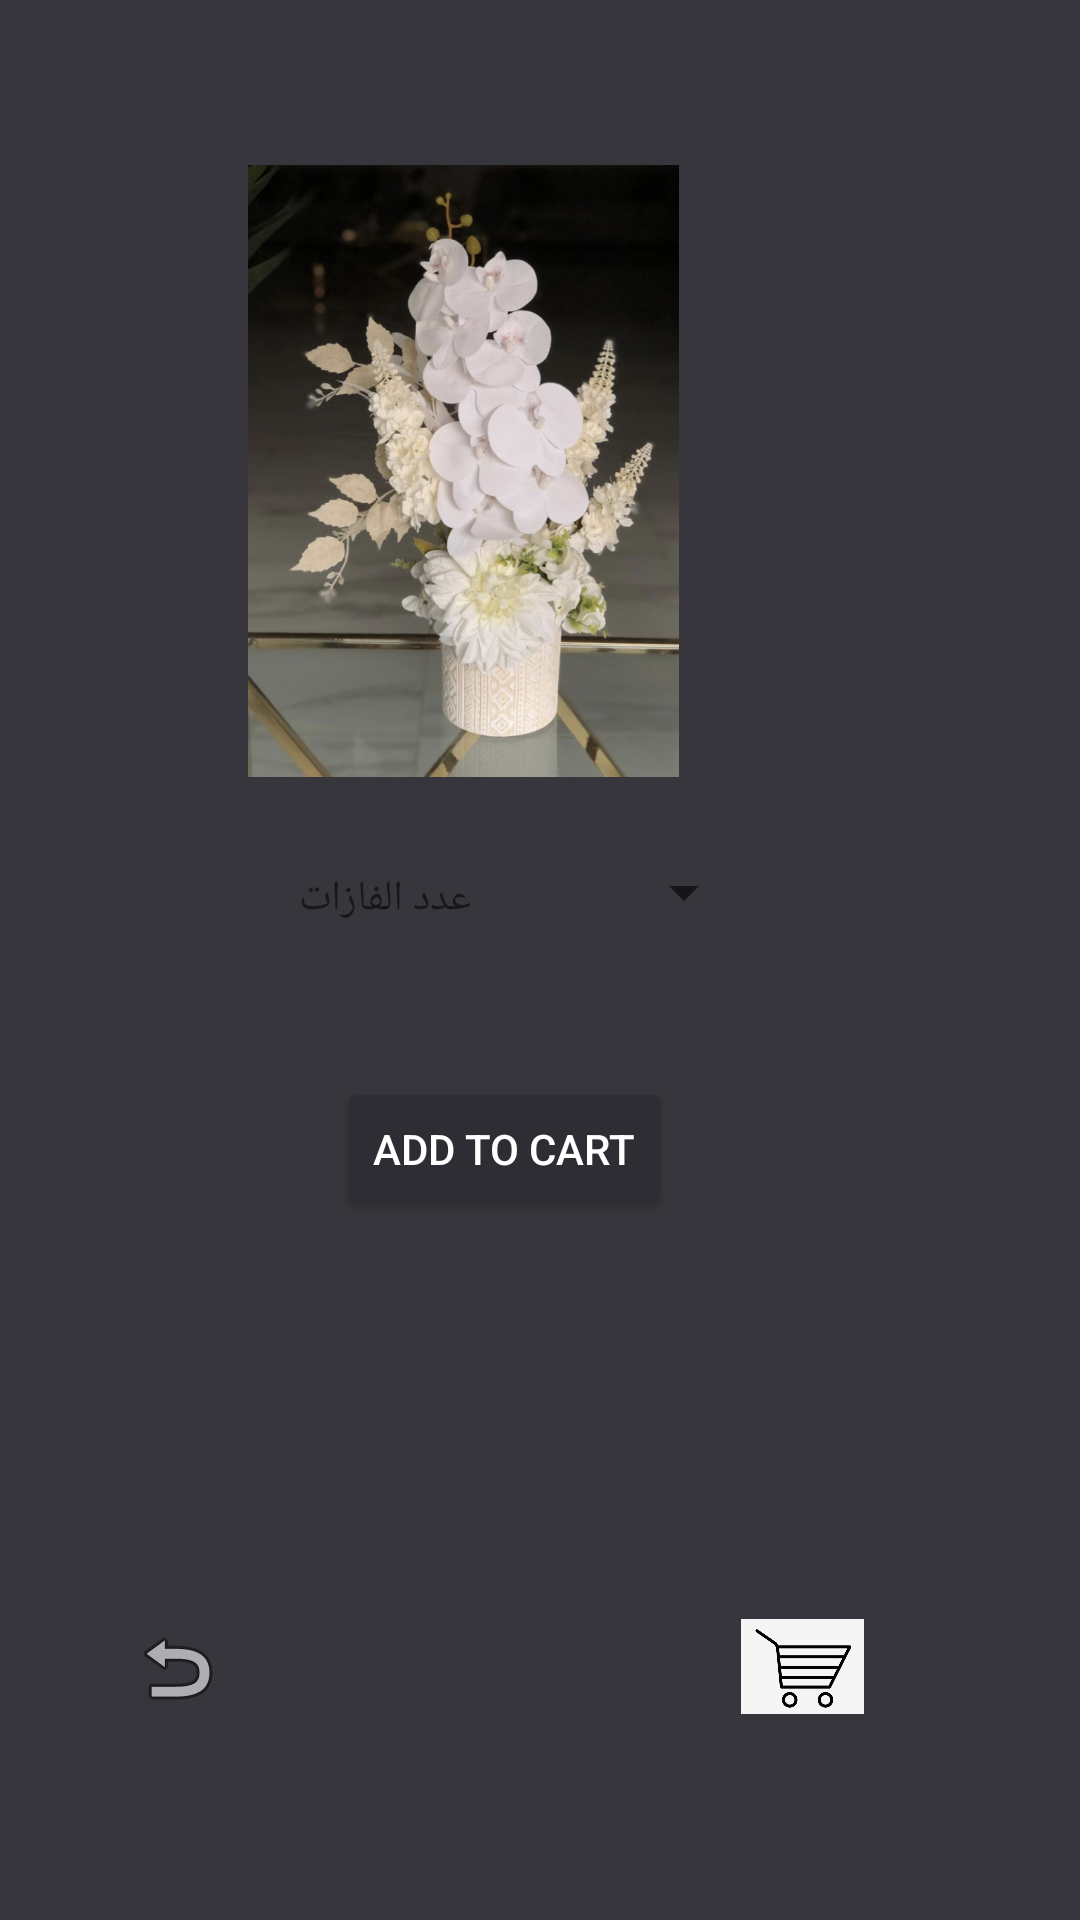

Locate icon controls on the screen. Image size 1080px×1920px, boxes as (x1, y1, x2, y2).
revert: (145, 1639, 211, 1698)
